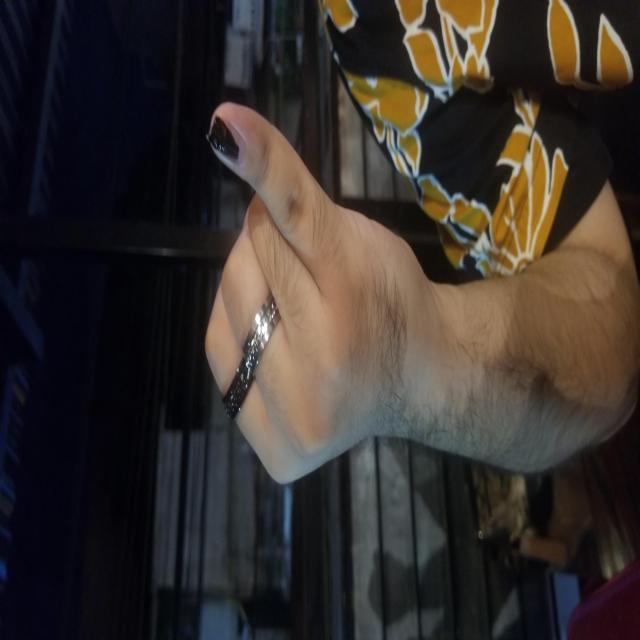J: (142, 74, 450, 547)
